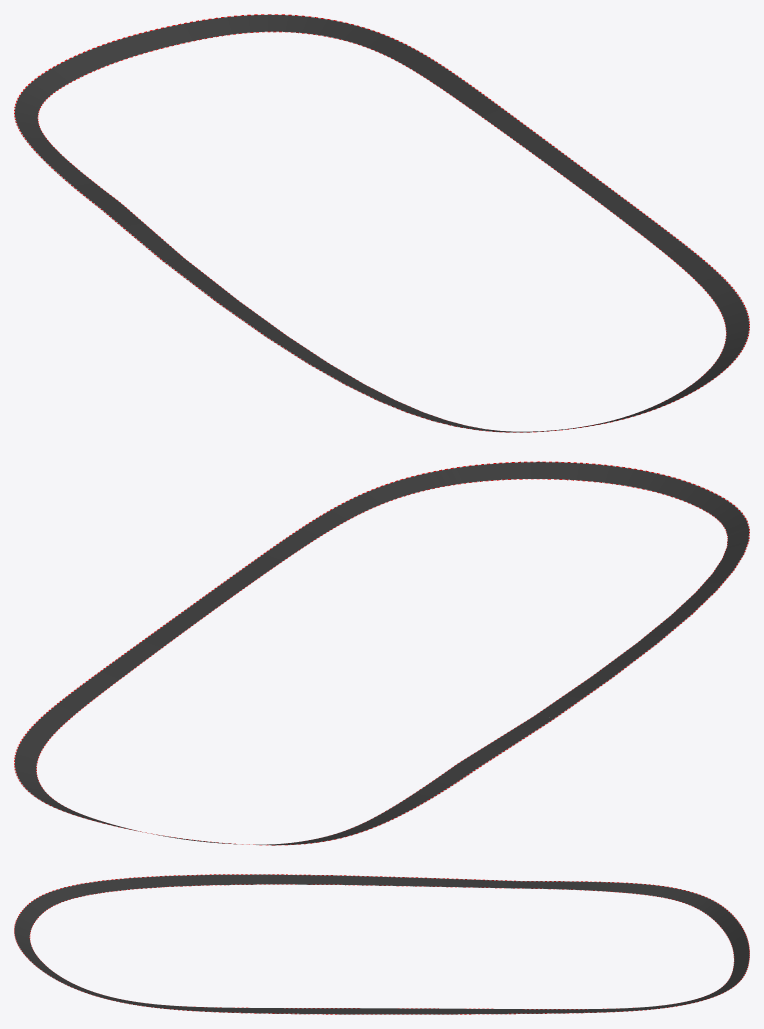
Rendered from road.fbx.
3 views of the same model, one above another, from view 1: azimuth 30°, elevation 25°; view 2: azimuth 150°, elevation 25°; view 3: azimuth 270°, elevation 25° (orthographic). The views are drawn at different scales.
Parts seen in each view (by area): view 1: Plane; view 2: Plane; view 3: Plane.
Boxes of the visible parts, x1,y1,x2,y2 form: Plane: (14,14,749,432); Plane: (14,461,749,845); Plane: (14,874,749,1014).
Size of the model in its own units: 149818 by 5160 by 329729.
